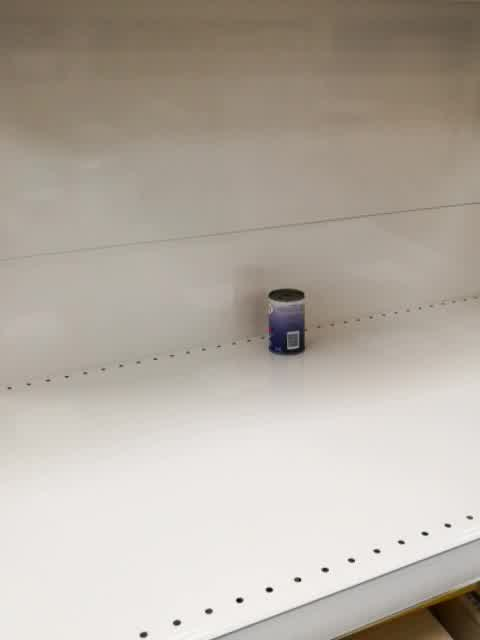sardine: (267, 287, 306, 356)
